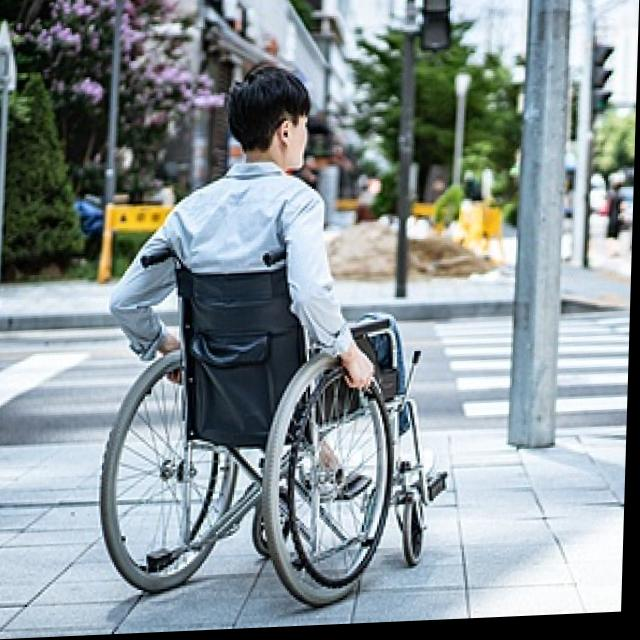wheelchair: (97, 54, 461, 619)
